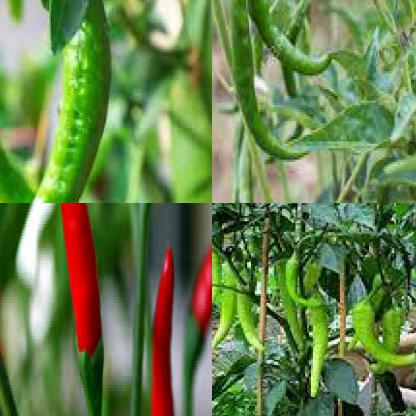Green Chilli: (0, 0, 116, 202), (0, 25, 102, 202), (217, 0, 316, 156), (249, 0, 341, 69), (342, 297, 415, 368), (274, 257, 305, 356), (309, 291, 332, 399), (284, 254, 328, 309), (371, 305, 406, 372), (212, 269, 240, 350), (235, 292, 268, 353), (212, 247, 224, 316)
